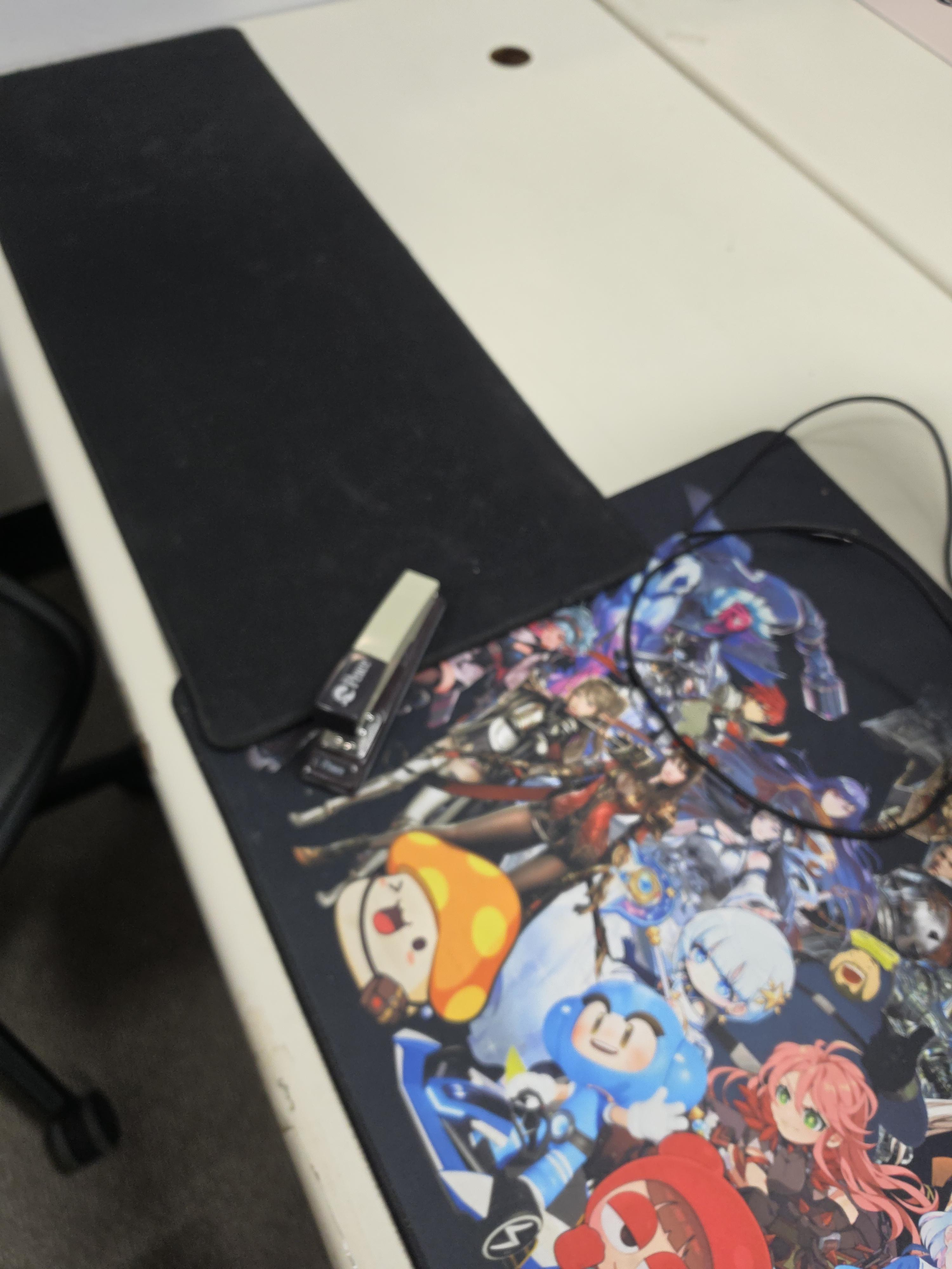stapler: (297, 569, 447, 795)
